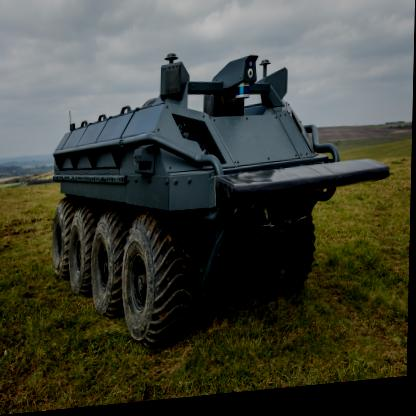UGV: (50, 39, 394, 360)
